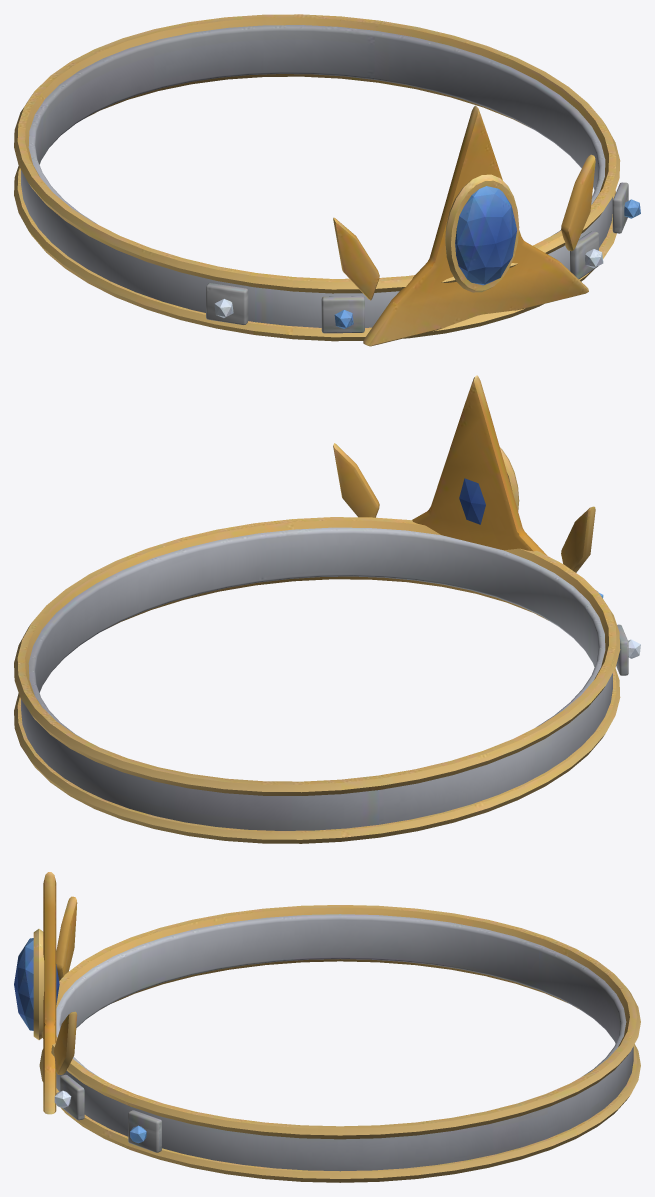
Rendered from rune_circlet.glb.
3 views of the same model, one above another, from view 1: azimuth 30°, elevation 25°; view 2: azimuth 150°, elevation 25°; view 3: azimuth 270°, elevation 25° (orthographic). The views are drawn at different scales.
Visible parts, largest first — view 1: rune_circlet; view 2: rune_circlet; view 3: rune_circlet.
Boxes of the visible parts, x1=… form: rune_circlet: x1=14, y1=14, x2=640, y2=346; rune_circlet: x1=14, y1=375, x2=640, y2=843; rune_circlet: x1=14, y1=872, x2=640, y2=1182.
Size of the model in its own units: 0.246 by 0.1004 by 0.2872.
Materials: 1 (1 with a texture image).
